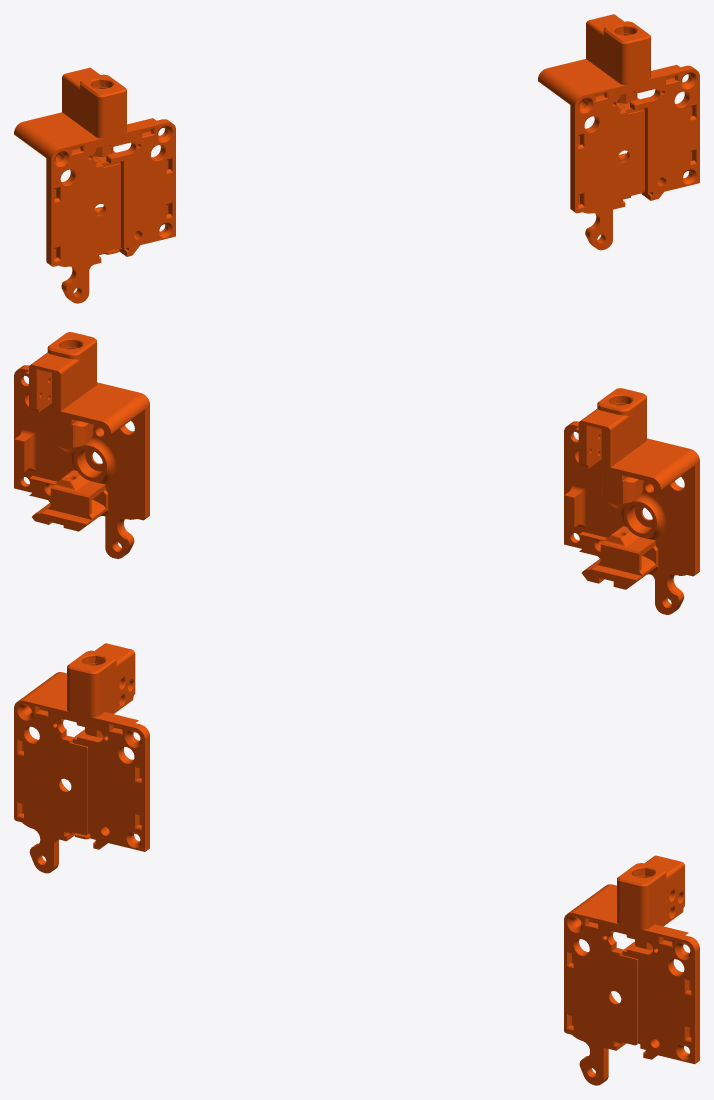
File: OZNLAB sensor setu H2S gear.step.glb
3 renders of one model, top to bottom at view 1: azimuth 30°, elevation 25°; view 2: azimuth 150°, elevation 25°; view 3: azimuth 330°, elevation 25°, orthographic. The views are drawn at different scales.
Size of the model in its own units: 0.2737 by 0.1114 by 0.0272.
